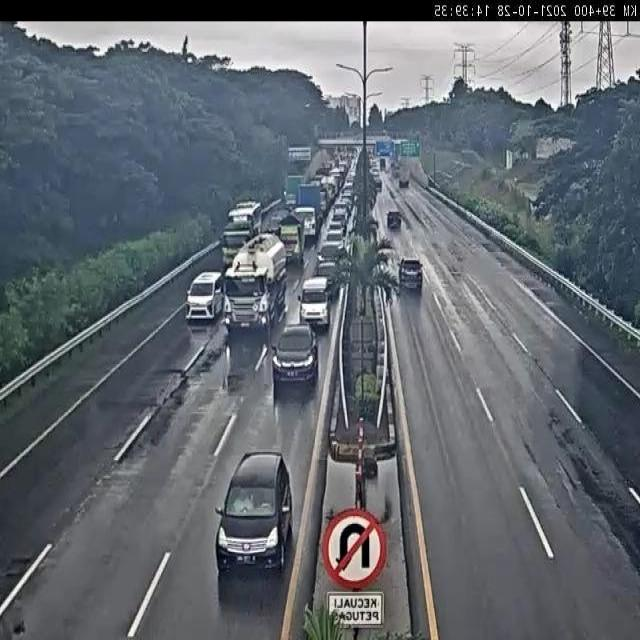Car: (270, 326, 319, 389), (396, 260, 425, 292), (386, 211, 402, 228)
Truck: (224, 233, 288, 344)
Van: (213, 449, 294, 584), (184, 272, 226, 328), (295, 278, 333, 337)
